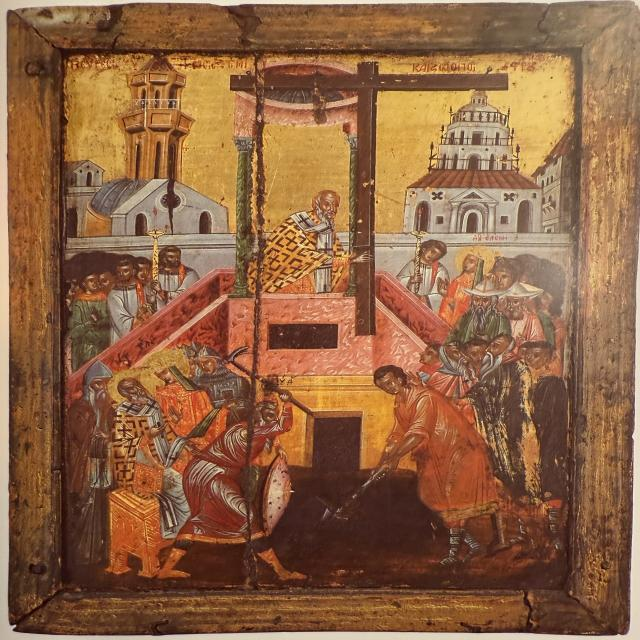aura: (102, 368, 161, 406), (141, 351, 193, 391), (457, 245, 500, 279)
church_father: (246, 178, 370, 301), (106, 373, 188, 533)
crown: (147, 354, 185, 374)
